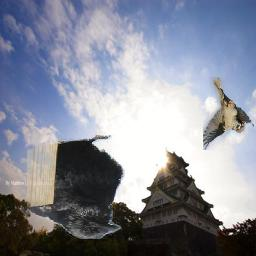Crow: (28, 135, 127, 239)
Sparrow: (204, 78, 255, 151)
